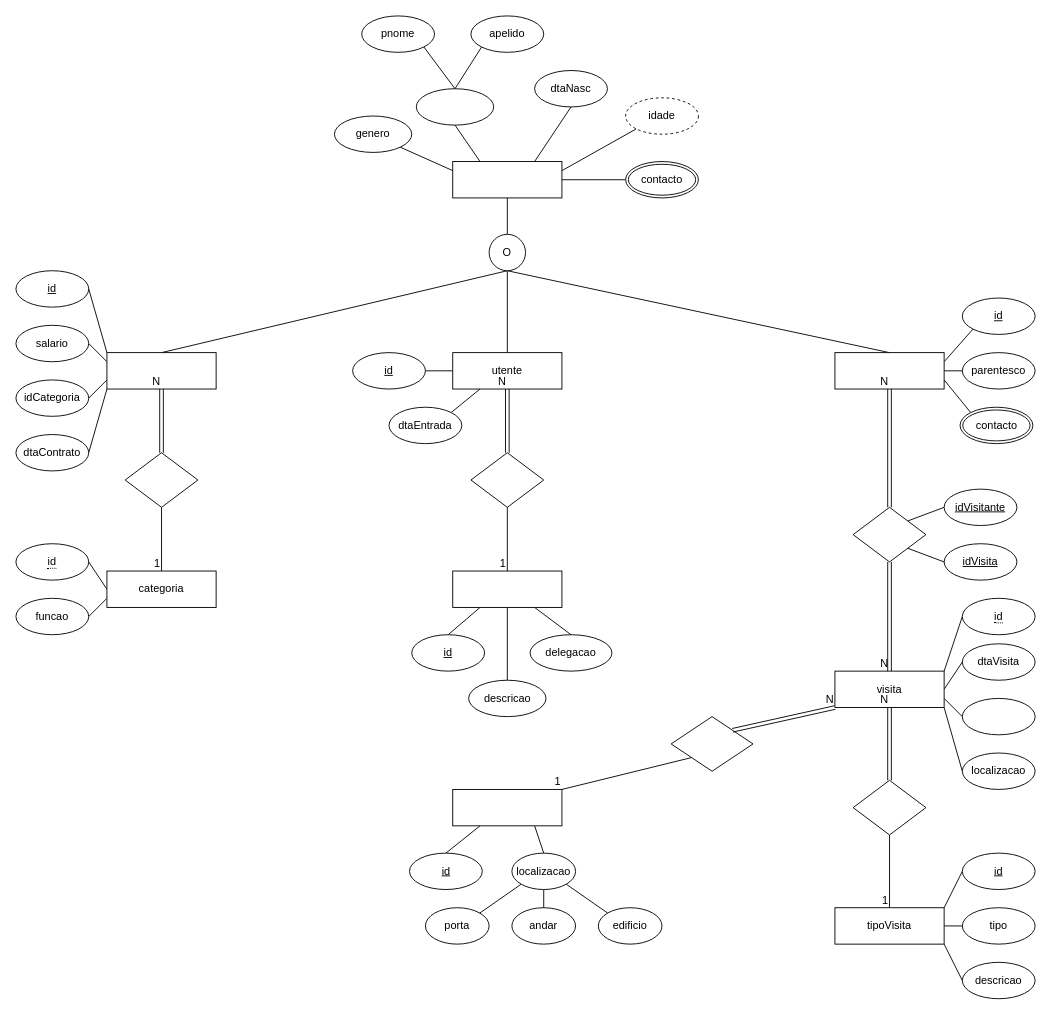
Some shapes in this 1051 by 1015 pixel diagram are drawn without their labels. The centre of each missing label's shape, as x and y in pixels:
"Acolher" belongs at point (507, 479).
"acolhimento" belongs at point (507, 588).
"Exercer" belongs at point (161, 479).
"funcionário" belongs at point (161, 370).
"idTipo" belongs at point (998, 716).
"Localizar" belongs at point (711, 743).
"nome" belongs at point (454, 106).
"Pessoa" belongs at point (507, 179).
"sala" belongs at point (507, 807).
"Ter" belongs at point (889, 807).
"visitante" belongs at point (889, 370).
"Visitar" belongs at point (889, 534).
